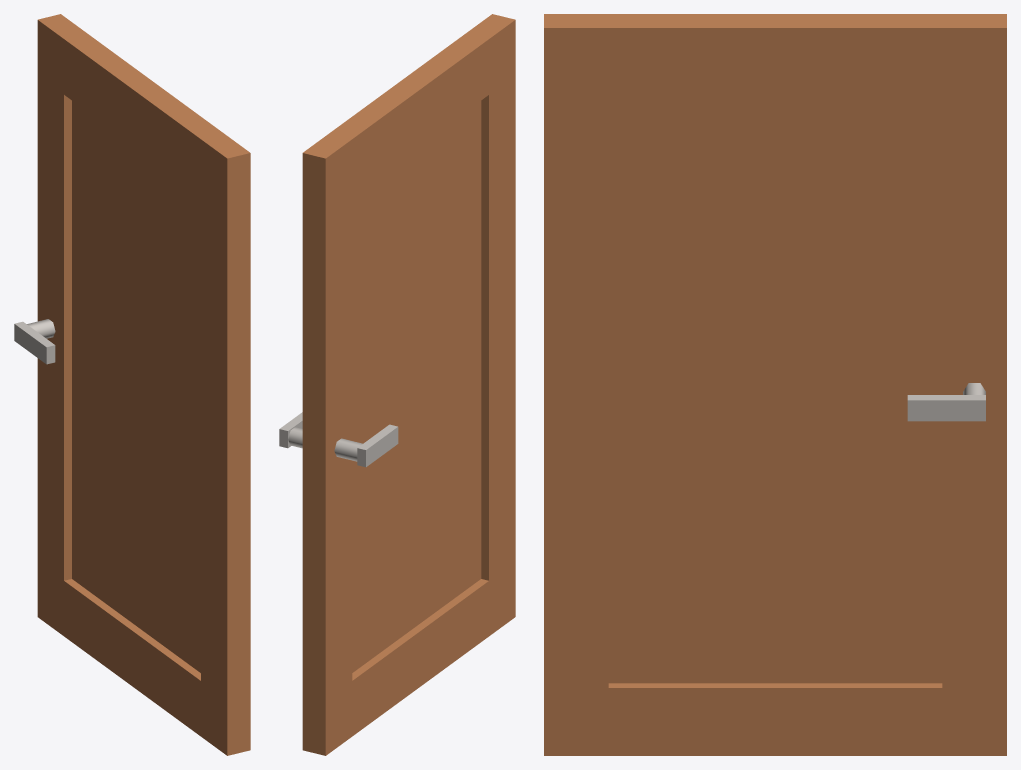
The model's file is oak_door.fbx.
3 renders of one model, left to right at view 1: azimuth 30°, elevation 25°; view 2: azimuth 150°, elevation 25°; view 3: azimuth 270°, elevation 25°, orthographic. The views are drawn at different scales.
Visible parts, largest first — view 1: oak_door; view 2: oak_door; view 3: oak_door.
Boxes of the visible parts, left/top/right/bottom form: oak_door: left=14, top=14, right=250, bottom=755; oak_door: left=279, top=14, right=515, bottom=755; oak_door: left=544, top=14, right=1006, bottom=755.
Size of what is drawn, in the model's own units: 140 by 36.92 by 243.
